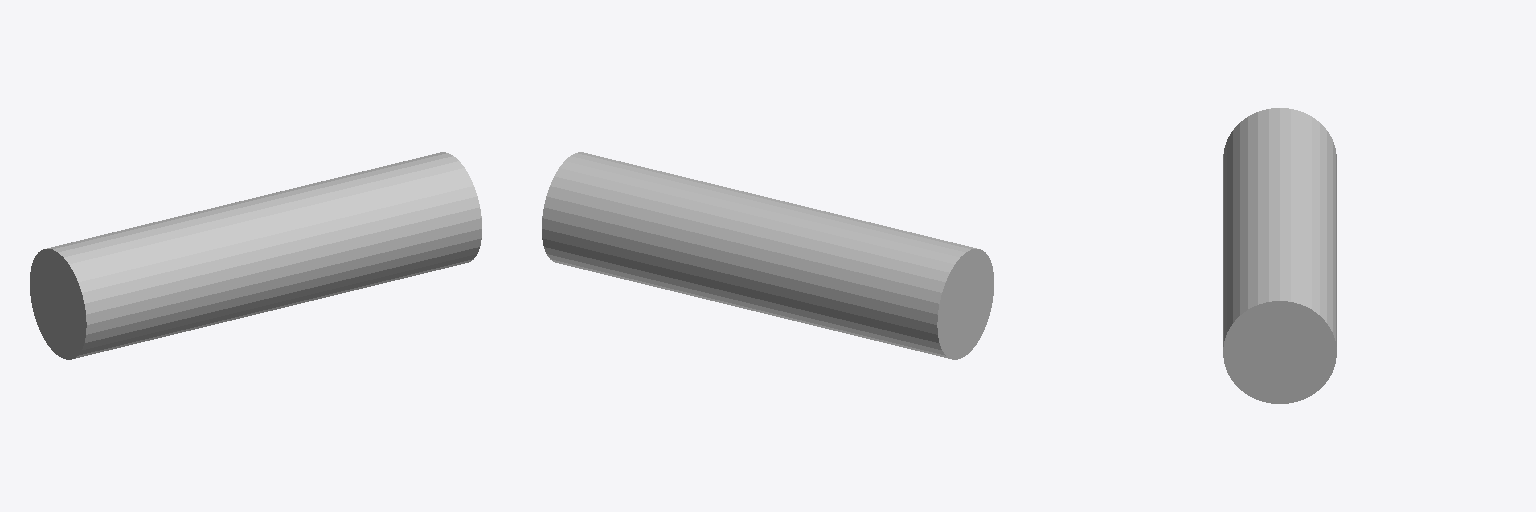
The model's file is MachineGunTurretAxle.obj.
3 views of the same model, side by side, from view 1: azimuth 30°, elevation 25°; view 2: azimuth 150°, elevation 25°; view 3: azimuth 270°, elevation 25° (orthographic).
Parts seen in each view (by area): view 1: M2BrowningAxle; view 2: M2BrowningAxle; view 3: M2BrowningAxle.
Boxes of the visible parts, <box> form: M2BrowningAxle: <box>30,152,481,359</box>; M2BrowningAxle: <box>542,152,993,359</box>; M2BrowningAxle: <box>1223,108,1336,403</box>.
Bounding box in the file's own units: 0.4 × 0.1 × 0.1.